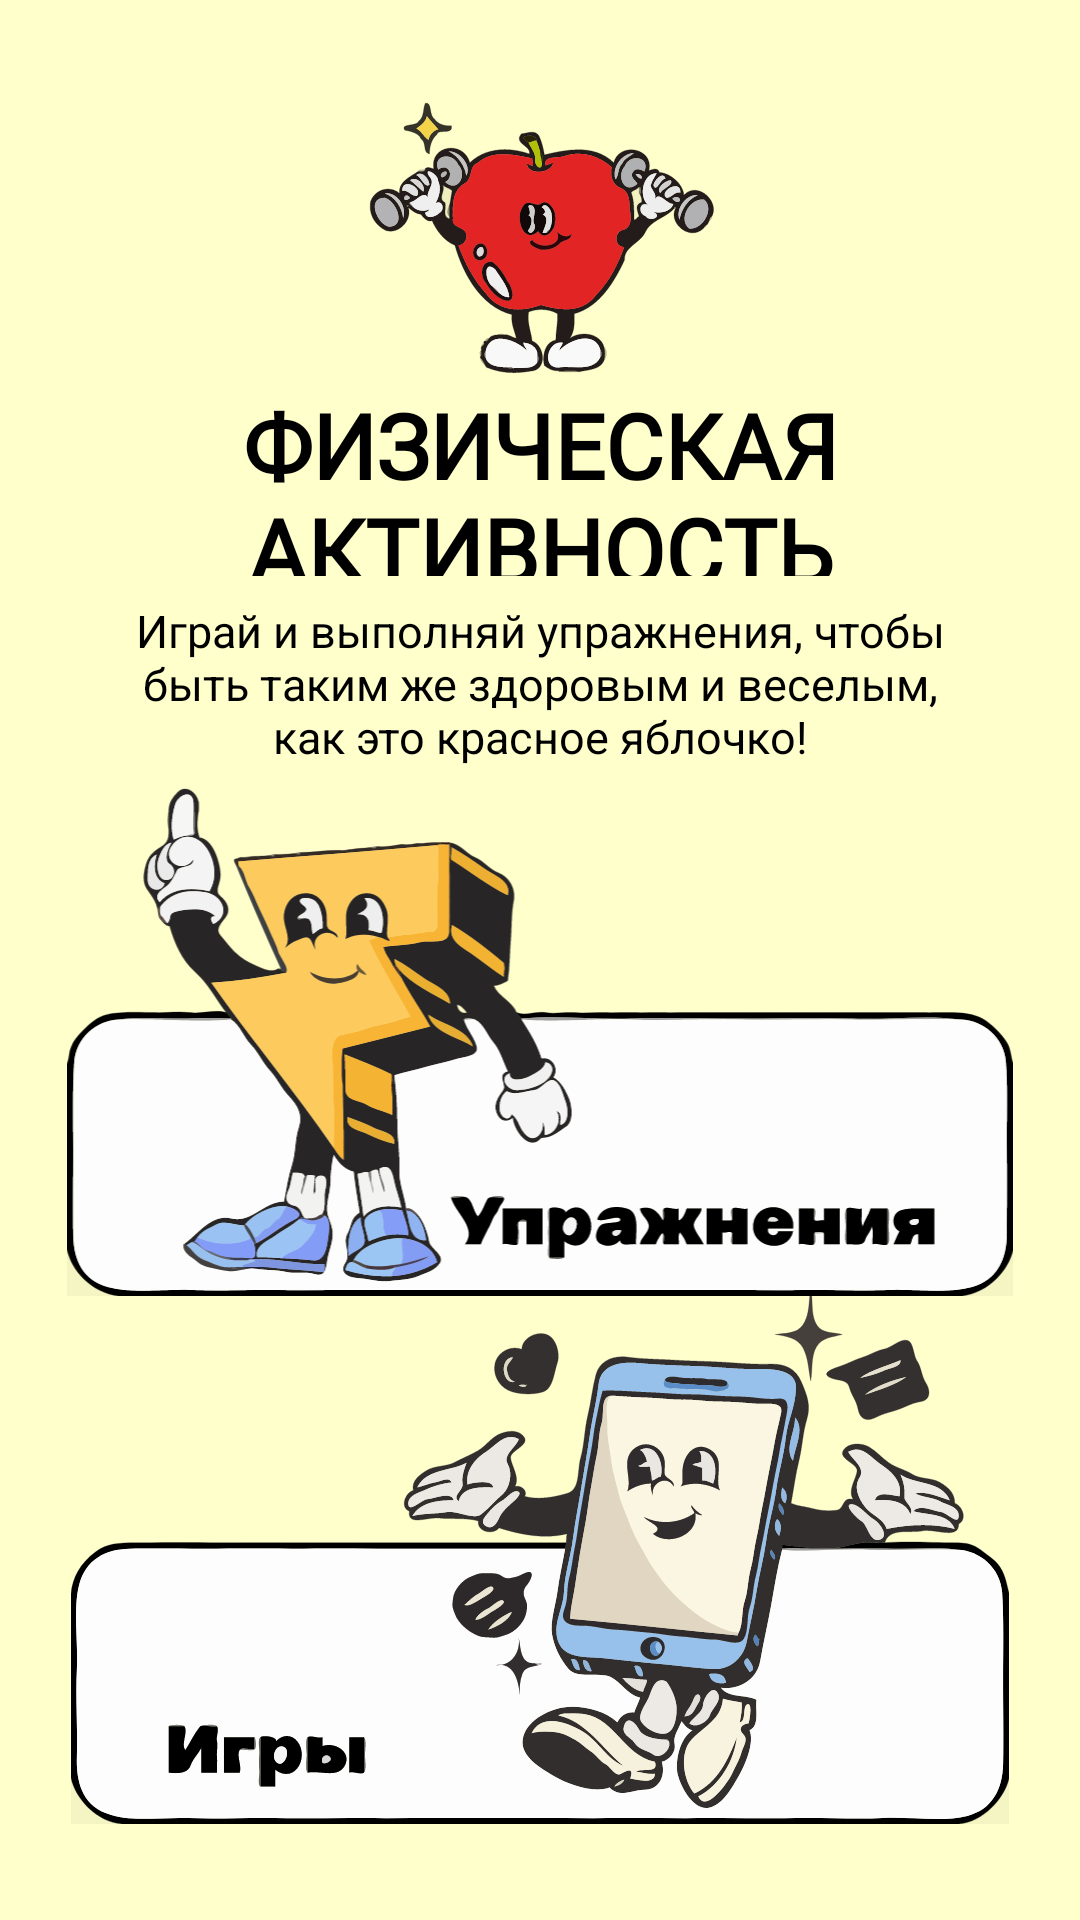

Named icons in this screenshot (1080x1920) and their bounding boxes, region(x1, y1, x2, y2):
apple character: region(370, 103, 714, 373)
